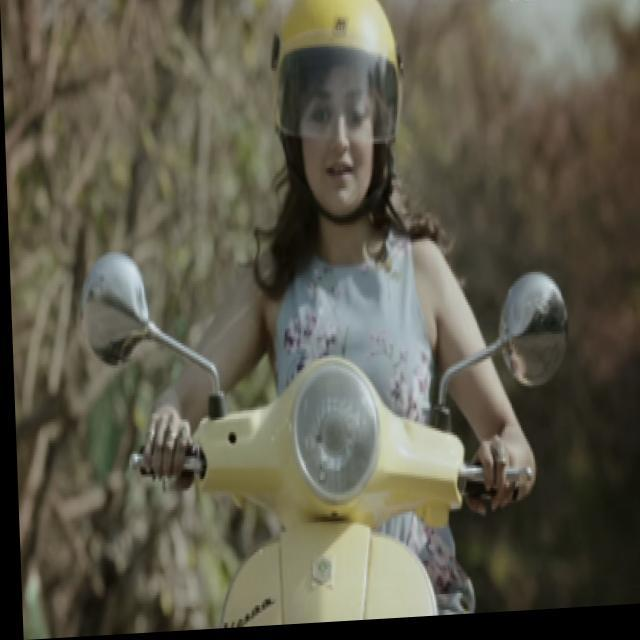Helmet: (260, 0, 416, 240)
